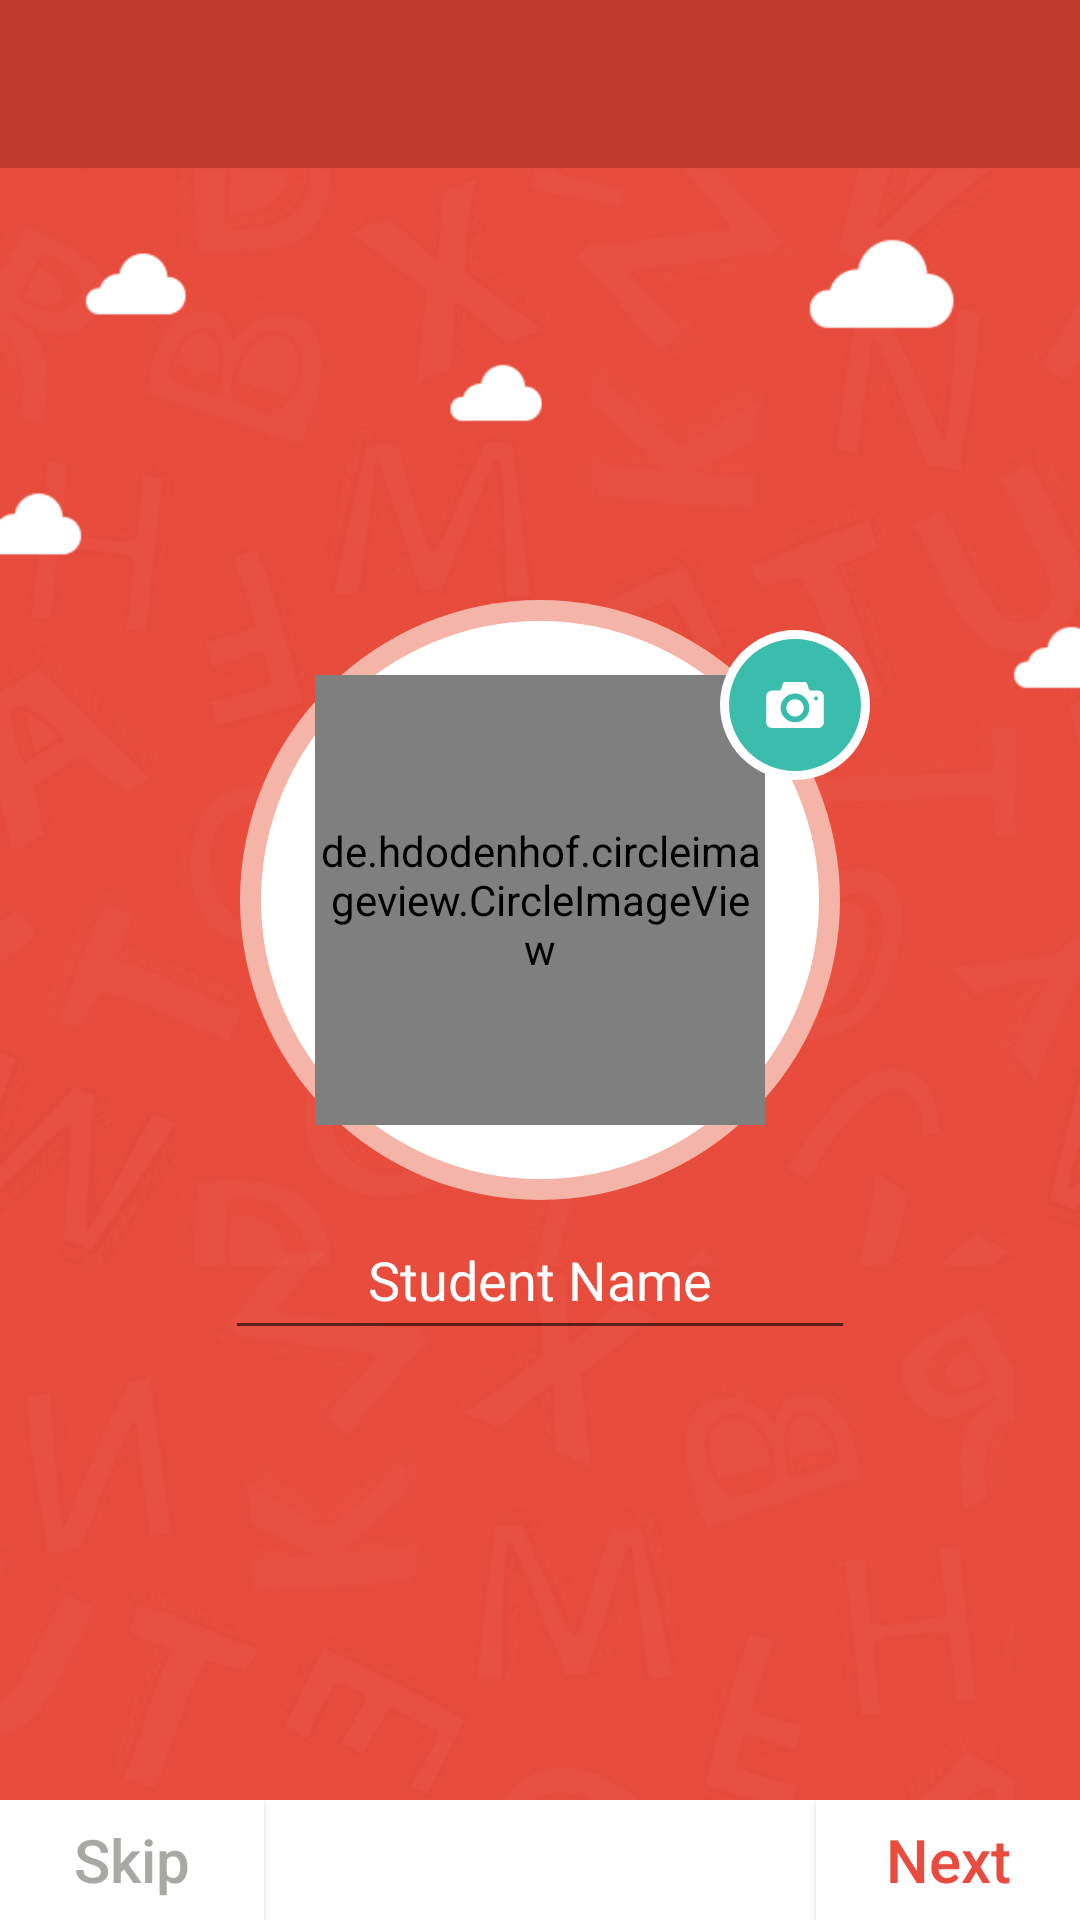

Named icons in this screenshot (1080w x 1920h) and their centers, (x,y):
profile camera: (795,705)
